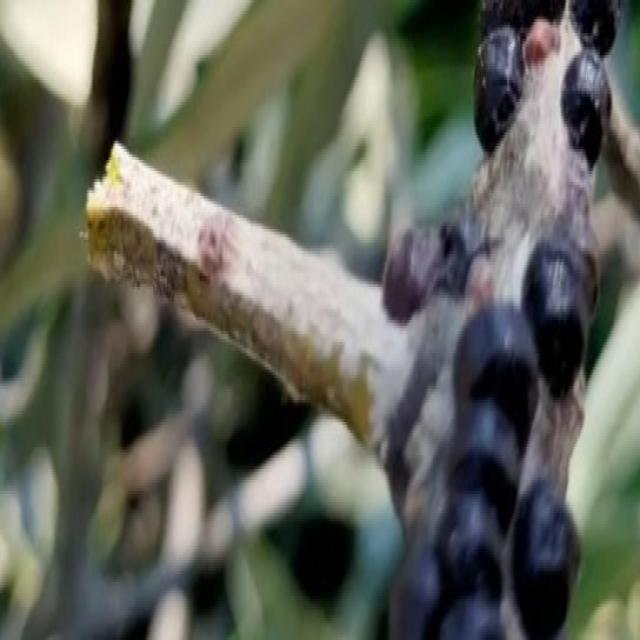BlackScale: (390, 306, 538, 637), (522, 220, 596, 394), (382, 201, 488, 320), (513, 497, 580, 638), (474, 27, 521, 152), (561, 50, 608, 171)
